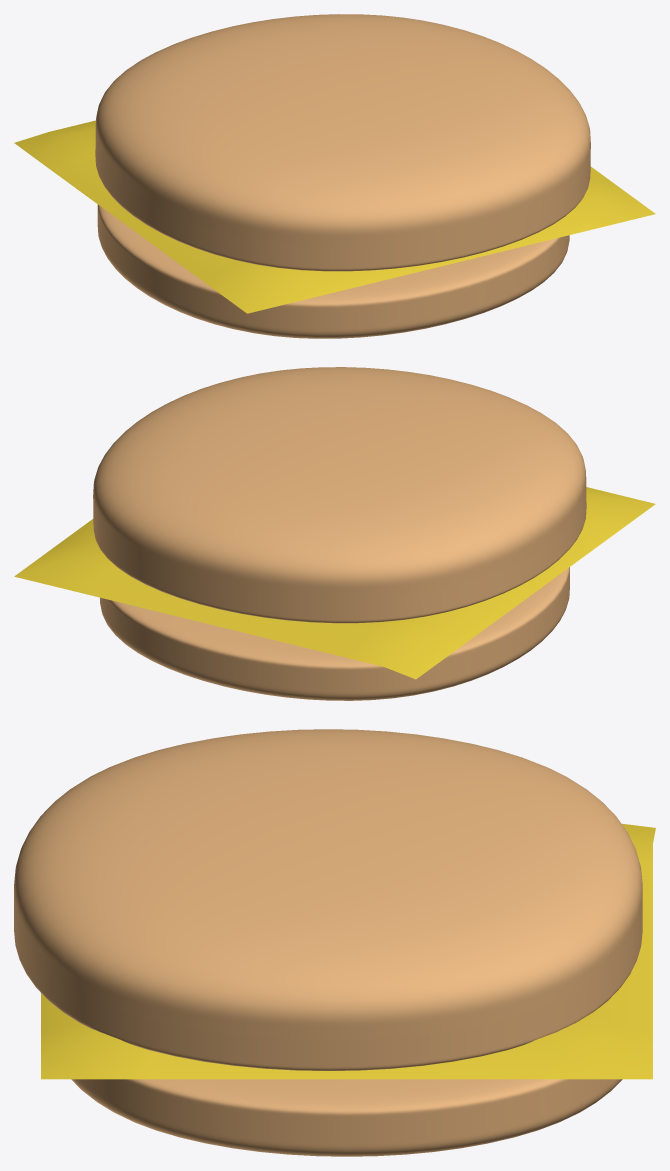
Rendered from hamburger.glb.
3 renders of one model, top to bottom at view 1: azimuth 30°, elevation 25°; view 2: azimuth 150°, elevation 25°; view 3: azimuth 270°, elevation 25°, orthographic. The views are drawn at different scales.
Parts seen in each view (by area): view 1: 汉堡片.001, 汉堡片, 平面; view 2: 汉堡片.001, 汉堡片, 平面; view 3: 汉堡片.001, 汉堡片, 平面.
Part boxes in pixels (x1,y1,x2,y2): 汉堡片.001: (95,14,590,271); 汉堡片: (97,204,569,338); 平面: (14,120,655,313); 汉堡片.001: (93,367,586,623); 汉堡片: (100,567,569,700); 平面: (14,487,655,679); 汉堡片.001: (14,729,642,1070); 汉堡片: (71,1079,622,1156); 平面: (41,823,655,1079).
Bounding box in the file's own units: 9.74 × 3.88 × 9.93.
